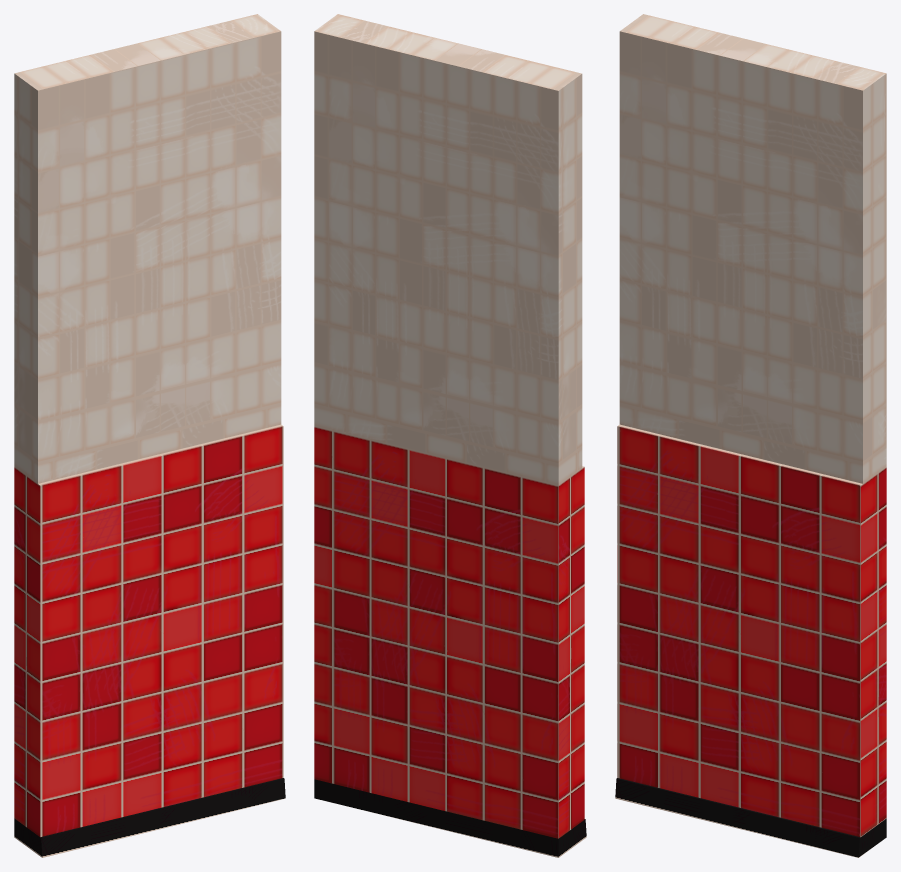
The model's file is Straight Wall.fbx.
3 views of the same model, side by side, from view 1: azimuth 30°, elevation 25°; view 2: azimuth 150°, elevation 25°; view 3: azimuth 330°, elevation 25° (orthographic).
Visible parts, largest first — view 1: Cube.001; view 2: Cube.001; view 3: Cube.001.
Part boxes in pixels (x1,y1,x2,y2): Cube.001: [14, 14, 285, 857]; Cube.001: [314, 14, 586, 857]; Cube.001: [615, 14, 886, 857].
Size of the model in its own units: 100 by 300 by 20.
